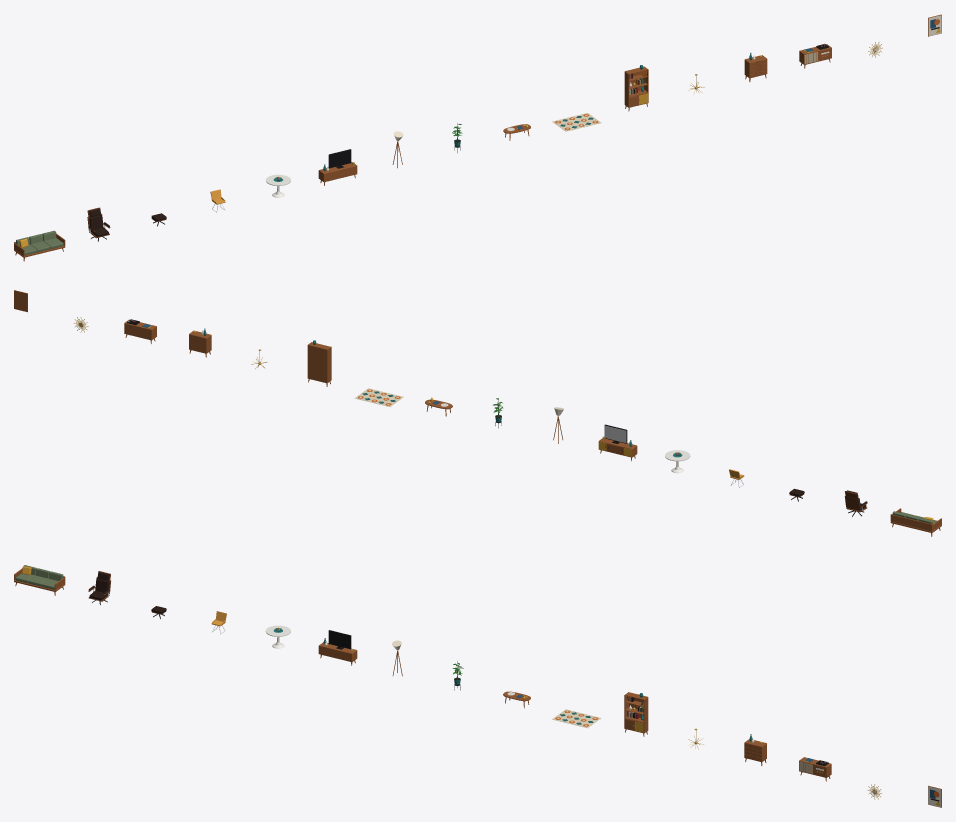
The model's file is MidCentury.glb.
3 renders of one model, top to bottom at view 1: azimuth 30°, elevation 25°; view 2: azimuth 150°, elevation 25°; view 3: azimuth 330°, elevation 25°, orthographic.
Visible parts, largest first — view 1: Bookcase, Sofa, TV, Radiogram; view 2: Bookcase, TV, Sofa, Radiogram; view 3: Bookcase, Sofa, TV, Radiogram, Rug.
Part boxes in pixels (x1,y1,x2,y2): Bookcase: (624,65,648,111); Sofa: (14,230,65,261); TV: (318,149,357,185); Radiogram: (799,43,831,68); Bookcase: (307,340,331,386); TV: (598,424,637,461); Sofa: (890,508,941,536); Radiogram: (124,319,156,343); Bookcase: (624,692,648,736); Sofa: (14,565,65,595); TV: (318,630,357,665); Radiogram: (799,757,831,781); Rug: (552,709,601,728).
Bounding box in the file's own units: 232 × 11.79 × 6.
